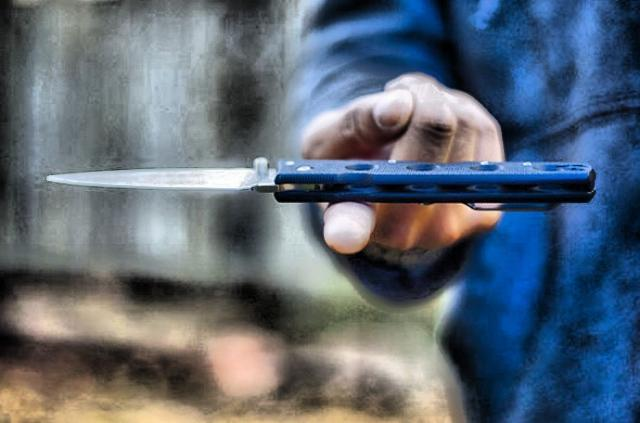knife: (39, 66, 418, 260)
